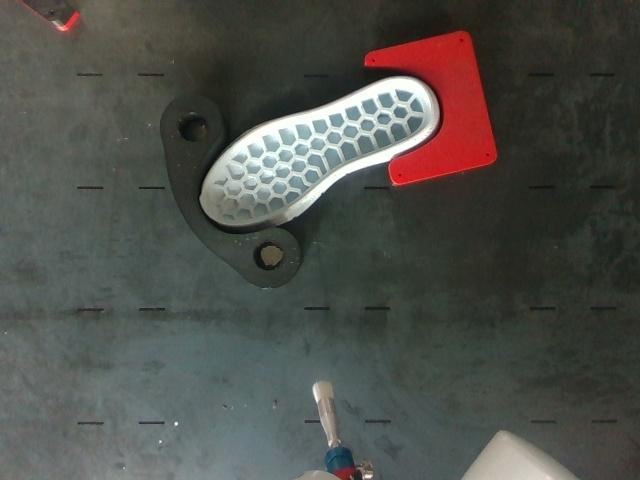shoes: (201, 78, 433, 225)
